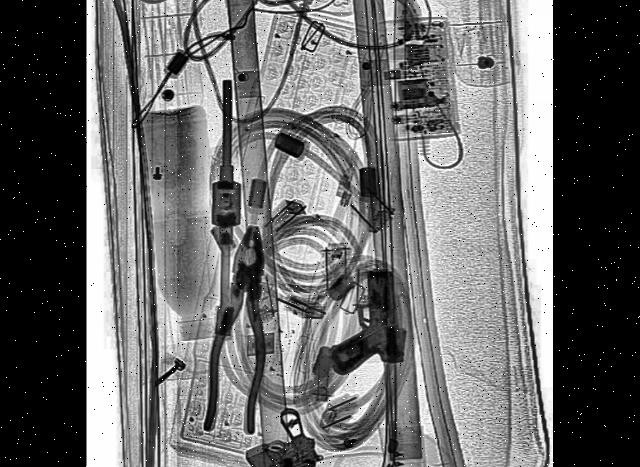Gun: (324, 265, 410, 378), (194, 400, 323, 467)
Pliers: (204, 218, 278, 442)
